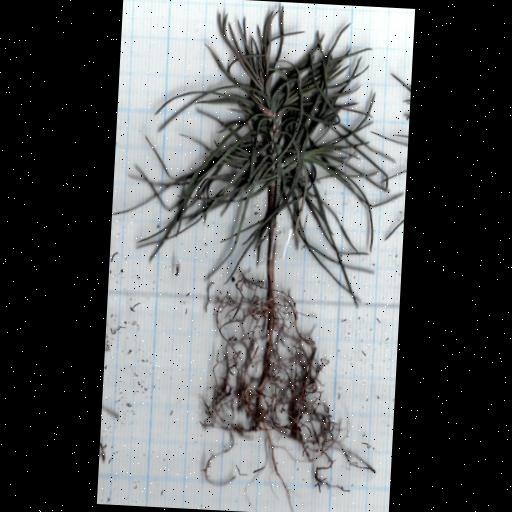flowerCedr: (140, 126, 391, 289), (158, 6, 374, 150)
rootCedr: (202, 274, 374, 510)
stemCedr: (267, 217, 276, 298)
